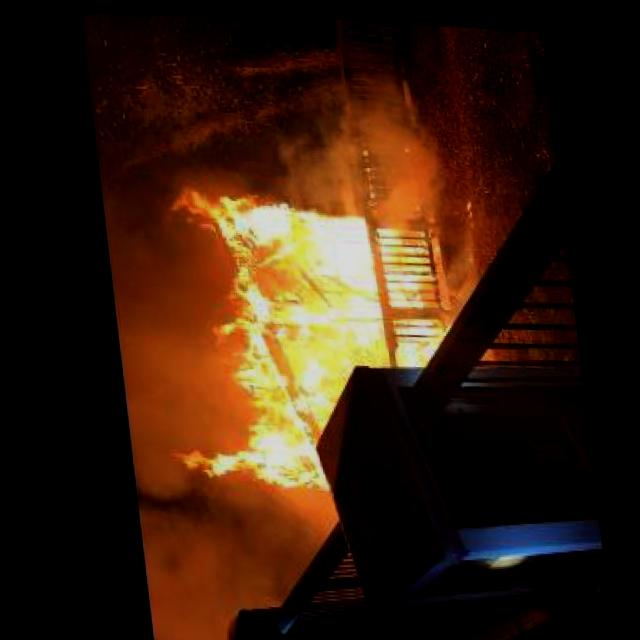helmet: (139, 163, 442, 501)
